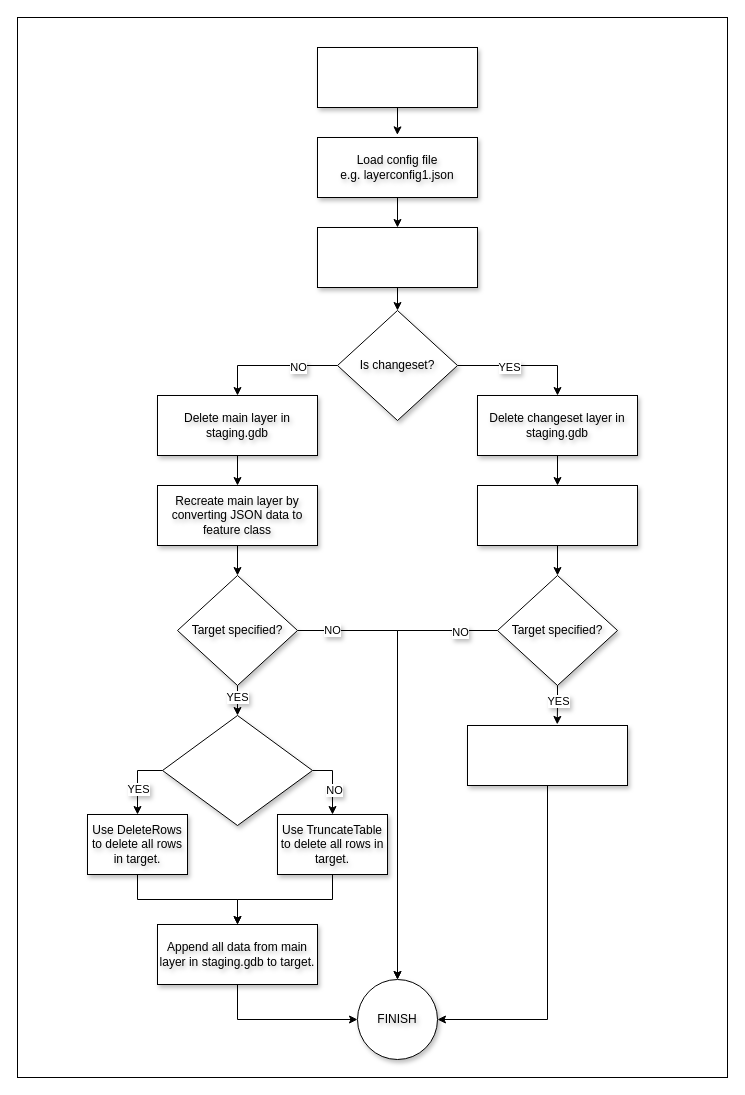
The diagram is 745 pixels wide and 1095 high, and some of its shapes have lost their labels. Here are the shapes that lost their labels. From the top down, the centre of each, then its label:
(398,78): Load settings.json
(398,258): Download raw data to json file in data directory
(558,516): Apply changes from changeset layer in staging gdb to main layer in staging.gdb
(238,771): Is target versioned or has attachments?
(548,756): Apply changes from changeset layer in staging gdb to target.
